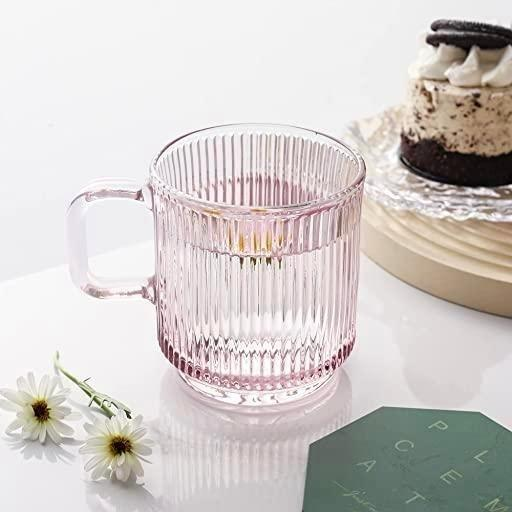glass-mug: (60, 115, 370, 422)
